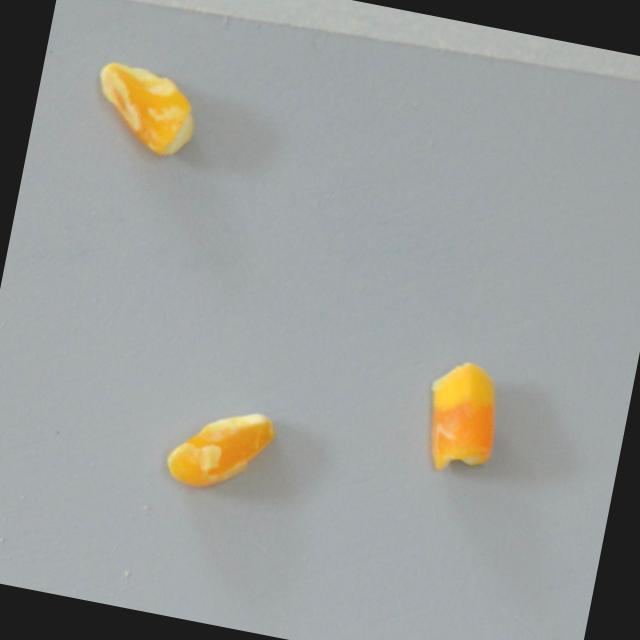dañado: (415, 353, 510, 481)
pelicula: (72, 54, 213, 168), (162, 395, 285, 502)
